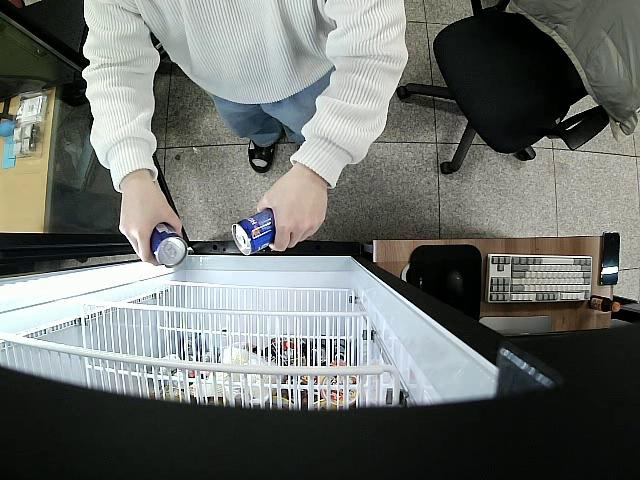00_hand: (255, 173, 328, 251), (118, 184, 184, 264)
16_hot6: (231, 208, 276, 255), (146, 220, 189, 269)
